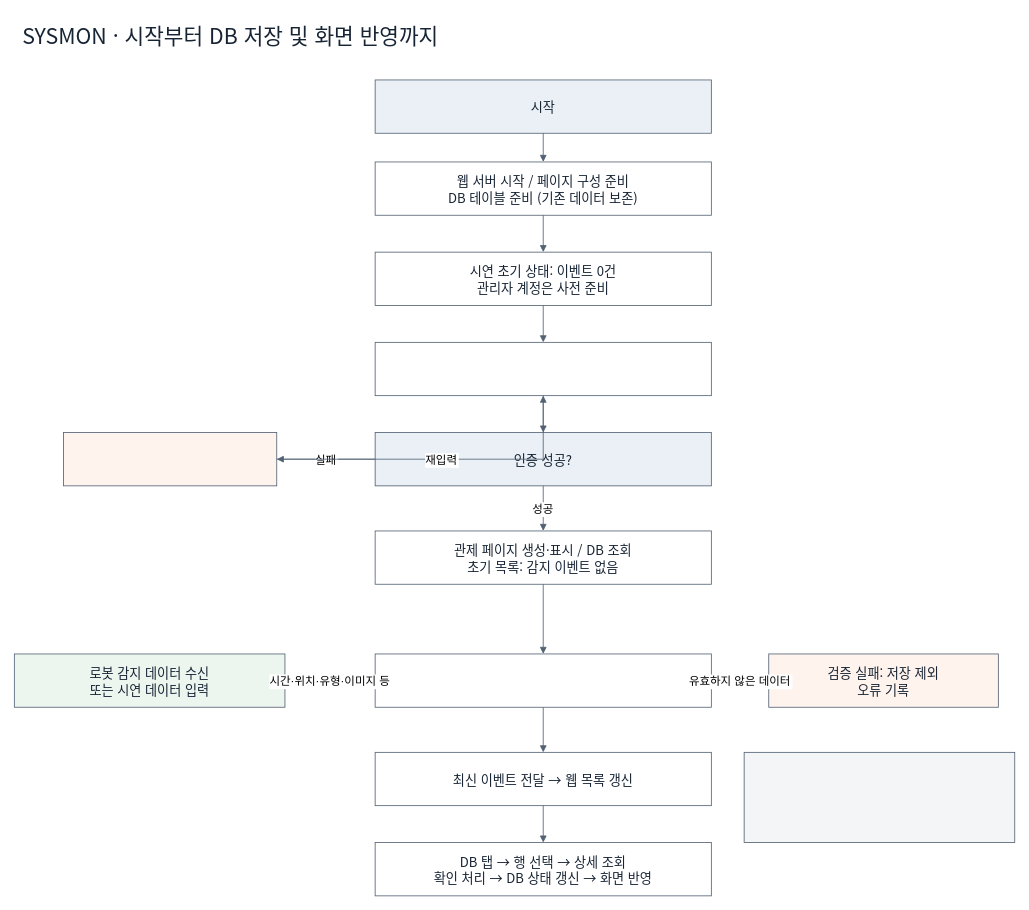
Some shapes in this 1029 by 910 pixel diagram are drawn without their labels. The centre of each missing label's shape, as x and y in pixels:
로그인 페이지 표시 / 계정 입력: point 542,369
설계 제안: 웹은 서버 API를 통해 DB 조회·갱신 화면 갱신 방식(주기 조회 / 실시간 알림)은 구현 시 확정: point 879,797
수신 데이터 검증 → 이벤트 DB 저장: point 542,680
오류 메시지 표시: point 170,459
